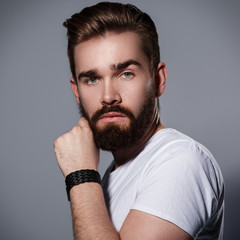young: (64, 10, 169, 147)
